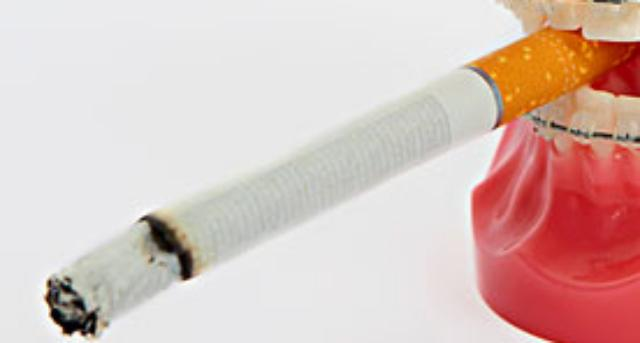Cigarette: (42, 33, 614, 341)
